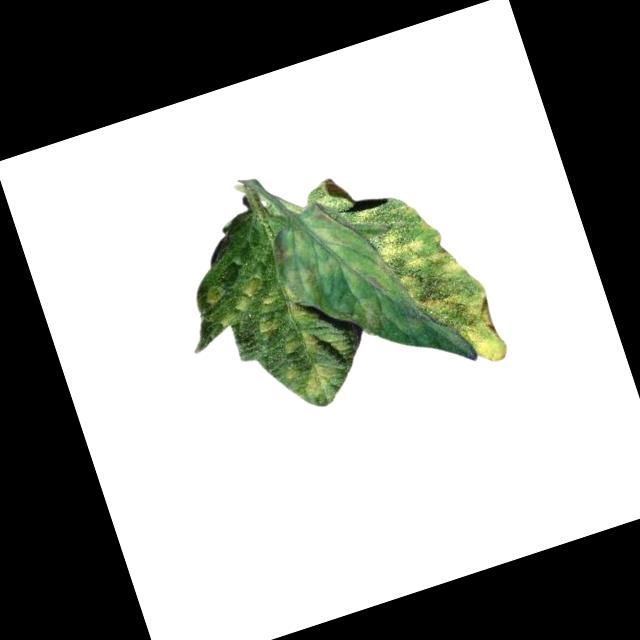Leaf_Mold: (352, 178, 511, 388), (264, 192, 405, 358), (201, 263, 291, 348), (285, 351, 344, 407), (280, 323, 325, 361)
